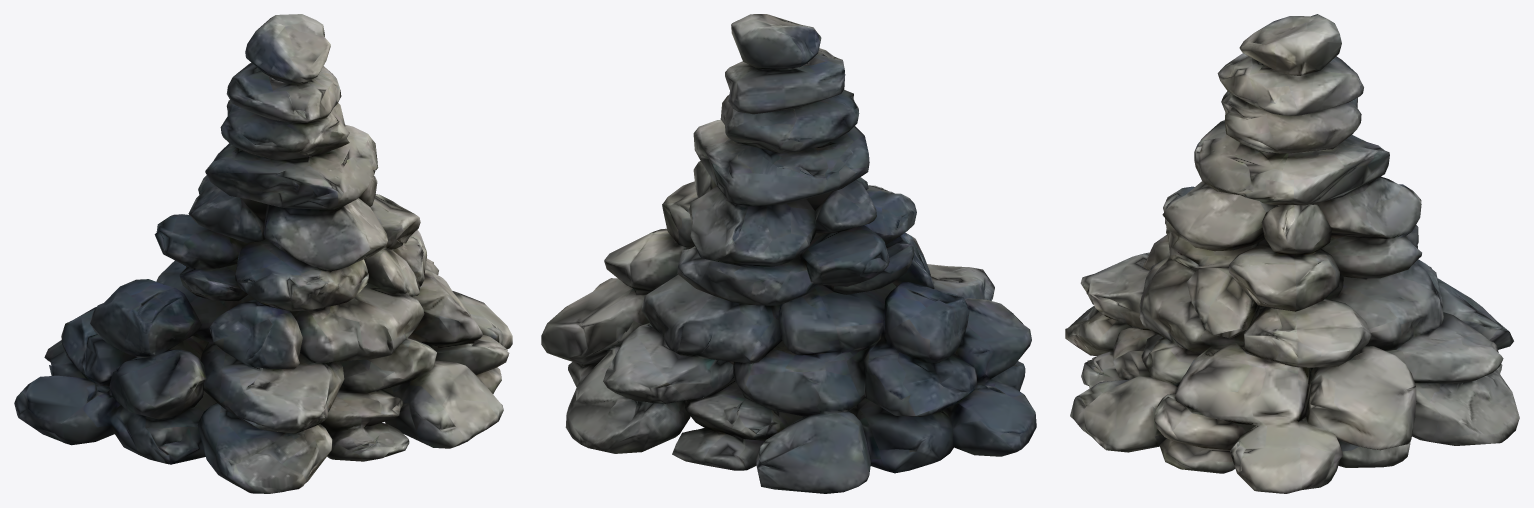
The model's file is summit-cairn.glb.
3 views of the same model, side by side, from view 1: azimuth 30°, elevation 25°; view 2: azimuth 150°, elevation 25°; view 3: azimuth 270°, elevation 25° (orthographic). The views are drawn at different scales.
Parts seen in each view (by area): view 1: node_232a83f9-e339-46cf-b042-e1605ac876a9; view 2: node_232a83f9-e339-46cf-b042-e1605ac876a9; view 3: node_232a83f9-e339-46cf-b042-e1605ac876a9.
Boxes of the visible parts, bbox=[...] form: node_232a83f9-e339-46cf-b042-e1605ac876a9: bbox=[14, 14, 512, 493]; node_232a83f9-e339-46cf-b042-e1605ac876a9: bbox=[541, 14, 1036, 493]; node_232a83f9-e339-46cf-b042-e1605ac876a9: bbox=[1065, 14, 1519, 493].
Bounding box in the file's own units: 0.977 × 0.7267 × 0.7921.
1 material, 1 textured.
